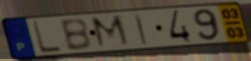4: (166, 8, 194, 44)
9: (193, 8, 222, 42)
B: (58, 17, 94, 52)
I: (133, 13, 149, 47)
L: (30, 20, 64, 55)
M: (89, 14, 133, 50)
